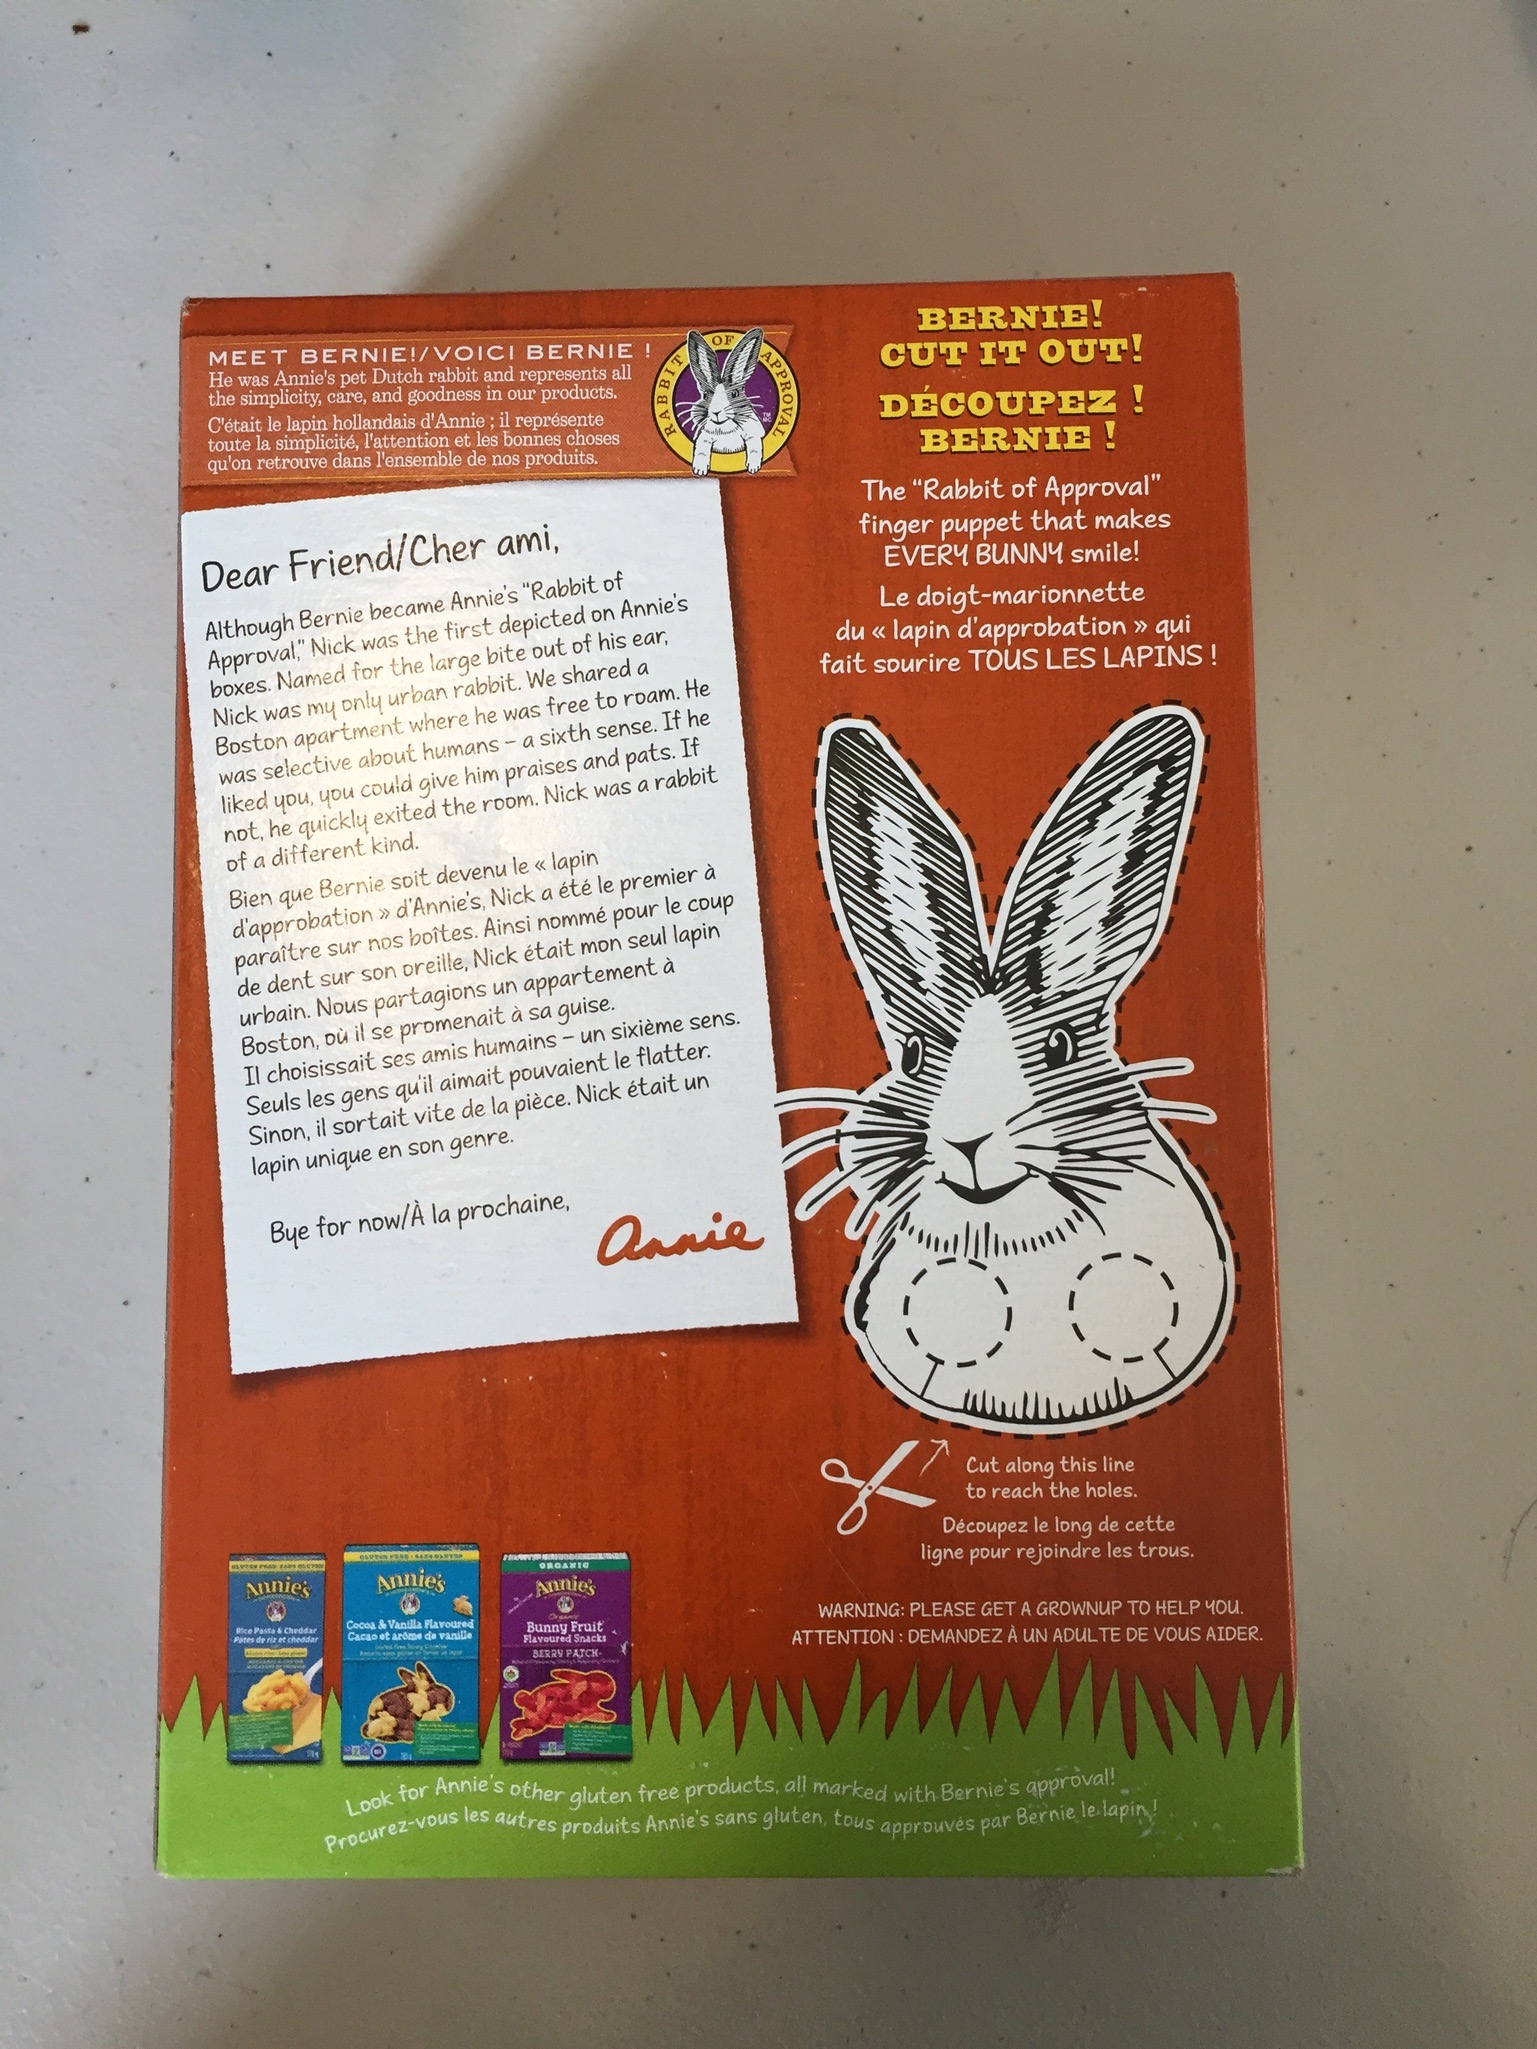annies_snickerdoodles_cinnamon_sugar: (191, 307, 1266, 1857)
